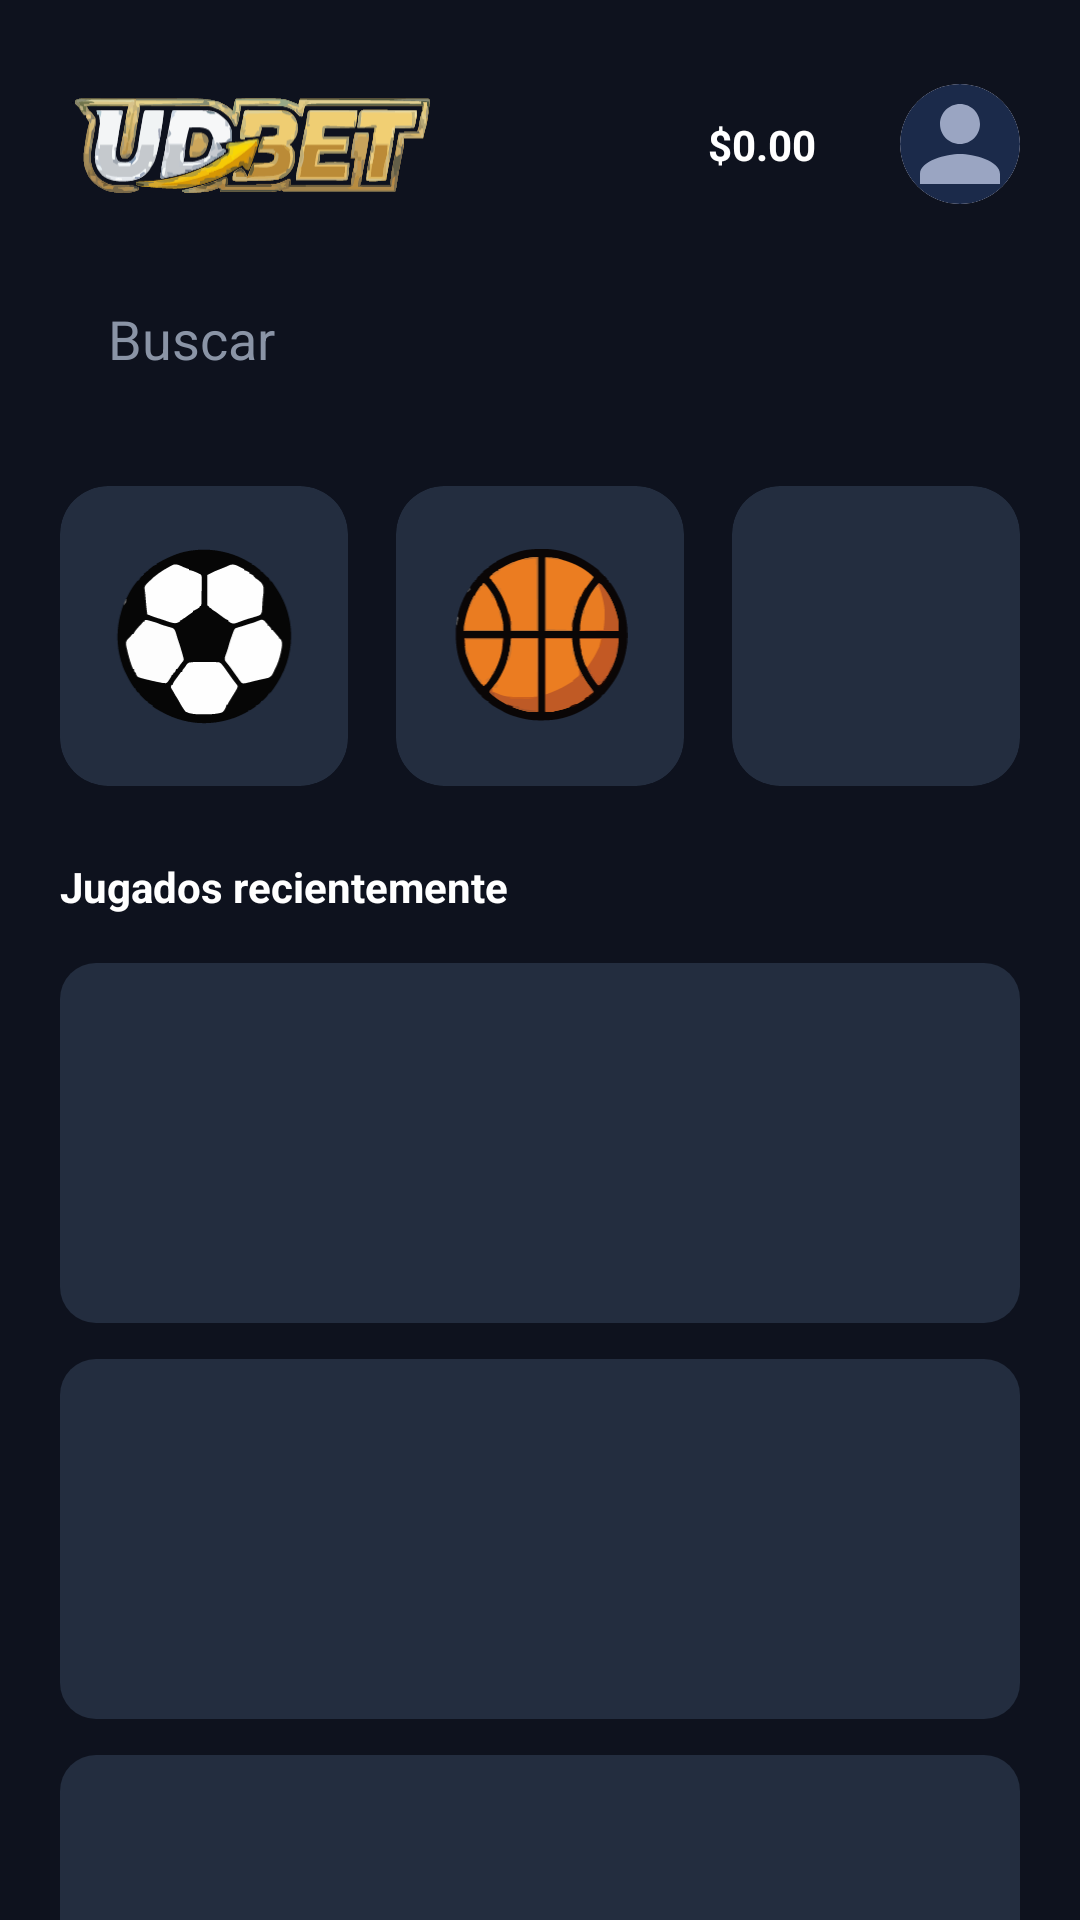

Screen size 1080px x 1920px. Icon name, then its box in pixels as (x1, y1, x2, y2):
basquet: (456, 549, 628, 721)
futbol: (117, 550, 291, 723)
